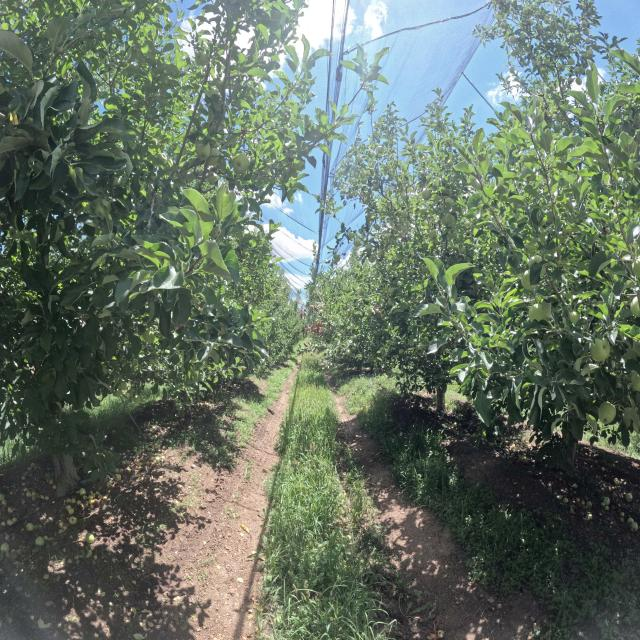-FireBlight-: (301, 320, 325, 336), (299, 305, 307, 319), (310, 307, 314, 313)
